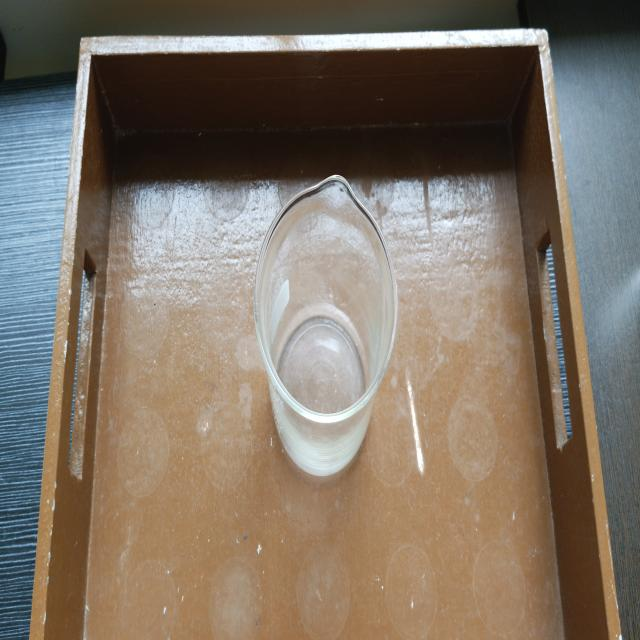beaker: (250, 165, 400, 482)
